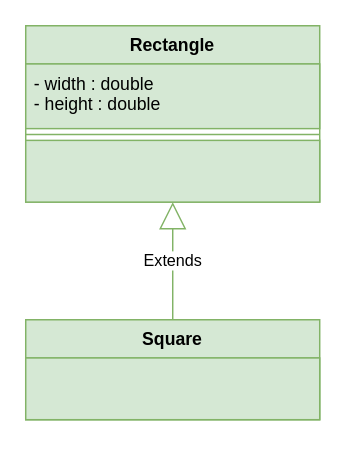
Image size: 345x450. Some labels were removed from this diagram. The shapes that lost their labels are listed below. From the top down, each one's centre as x and y in pixels, then its label:
the point at 172,170: + Rectangle(double w, double h) + Area(): double
the point at 172,388: + Square(double w)
